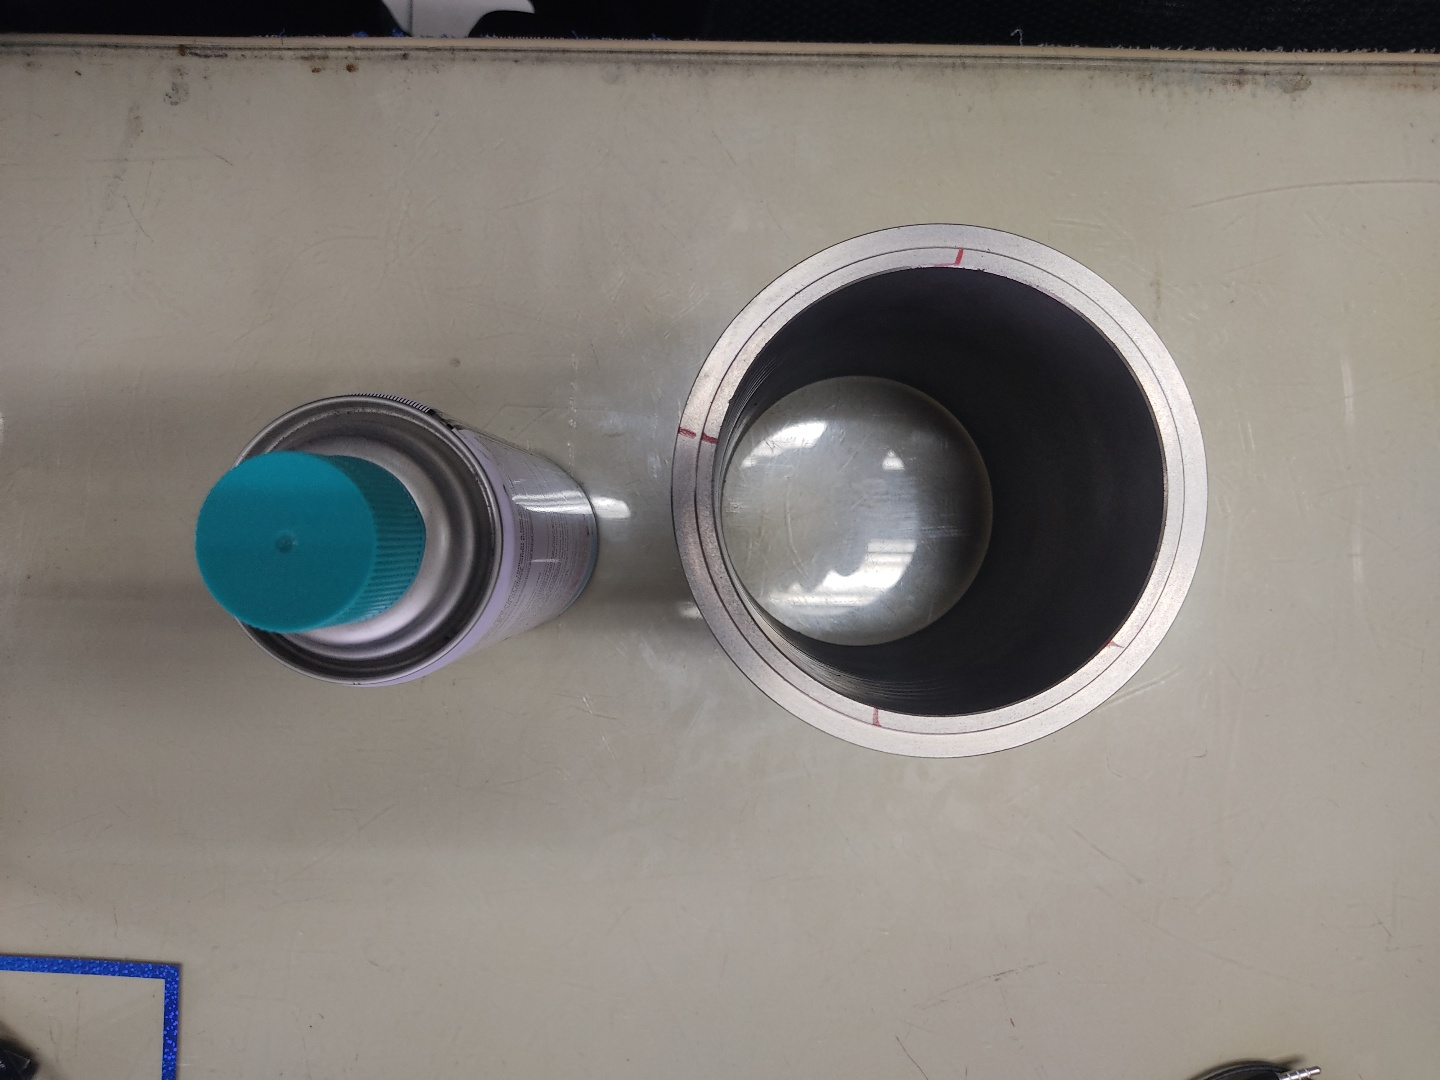cylinder: (660, 212, 1218, 767)
